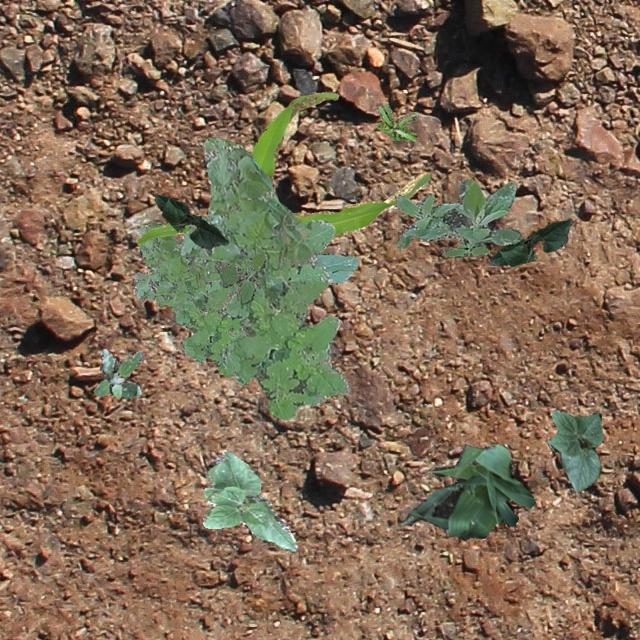crop: (136, 90, 428, 244), (398, 442, 534, 540), (202, 450, 296, 550), (546, 408, 600, 491), (488, 218, 572, 266), (154, 194, 228, 248), (302, 252, 358, 318)
weed: (180, 136, 350, 418), (132, 222, 244, 376), (396, 176, 520, 256), (214, 248, 268, 304), (94, 348, 142, 397), (376, 102, 416, 140)
